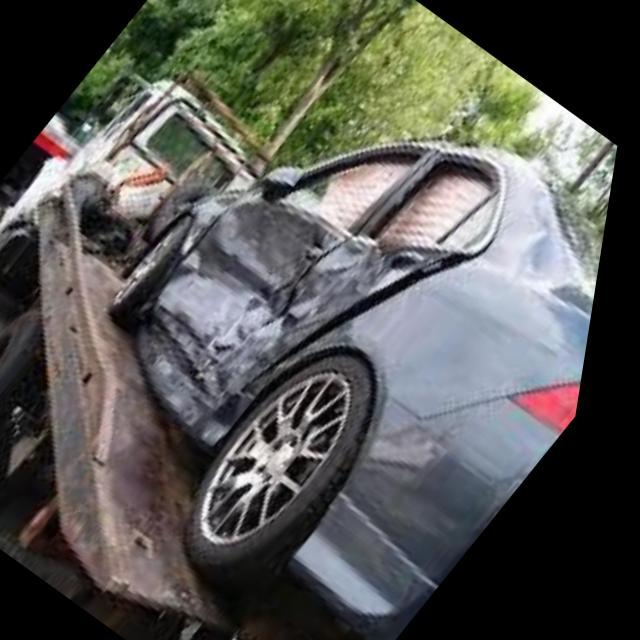dent: (132, 150, 604, 436)
